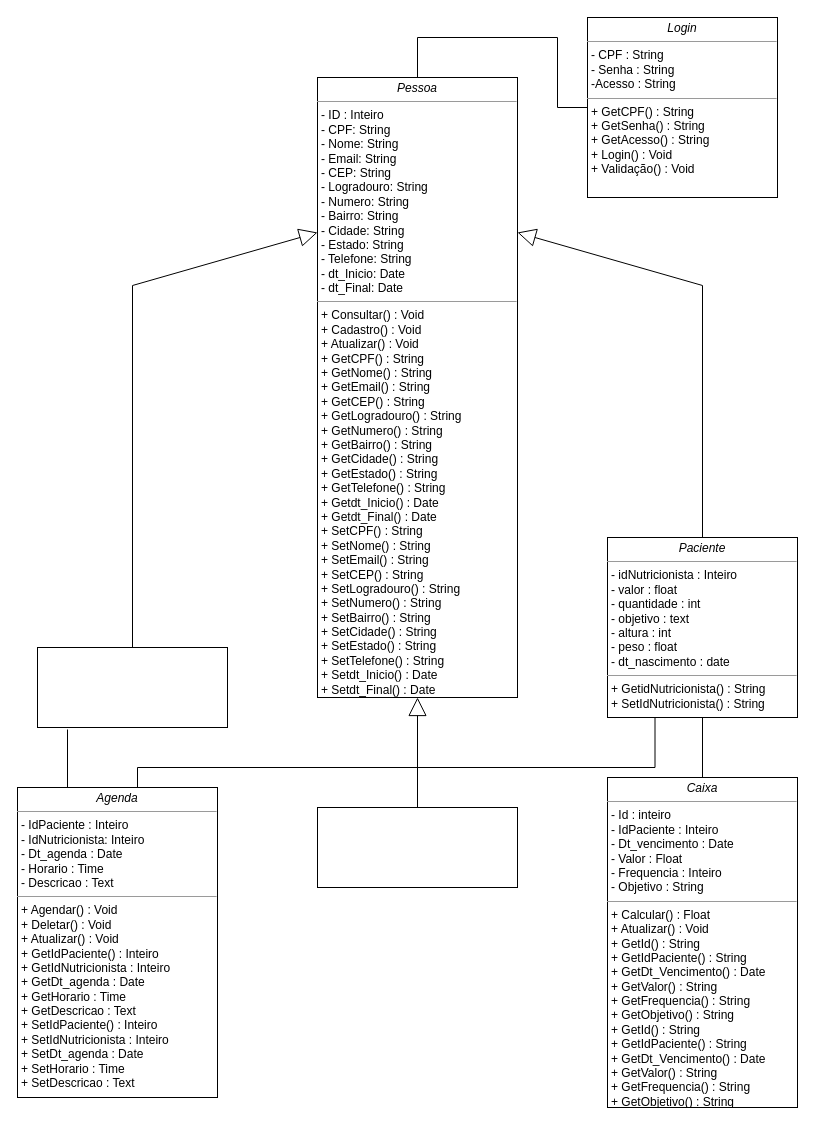
Image size: 815x1125. Some labels were removed from this diagram. Each missing label, with the box of its shape:
Funcionarios: (316, 806, 518, 888)
Nutricionista: (36, 646, 228, 728)
